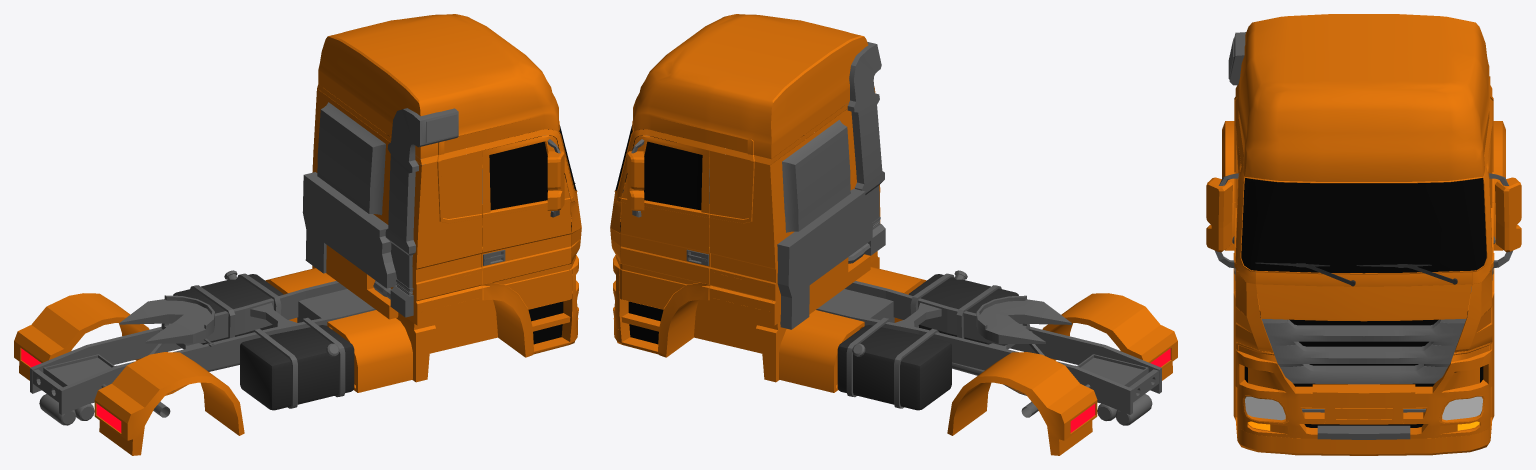
Rendered from Car6.fbx.
3 renders of one model, left to right at view 1: azimuth 30°, elevation 25°; view 2: azimuth 150°, elevation 25°; view 3: azimuth 270°, elevation 25°, orthographic. The views are drawn at different scales.
Parts seen in each view (by area): view 1: Car6; view 2: Car6; view 3: Car6.
Boxes of the visible parts, bbox=[...] form: Car6: bbox=[14, 14, 581, 455]; Car6: bbox=[610, 14, 1177, 455]; Car6: bbox=[1206, 14, 1521, 455].
Size of the model in its own units: 663 by 362 by 297.
